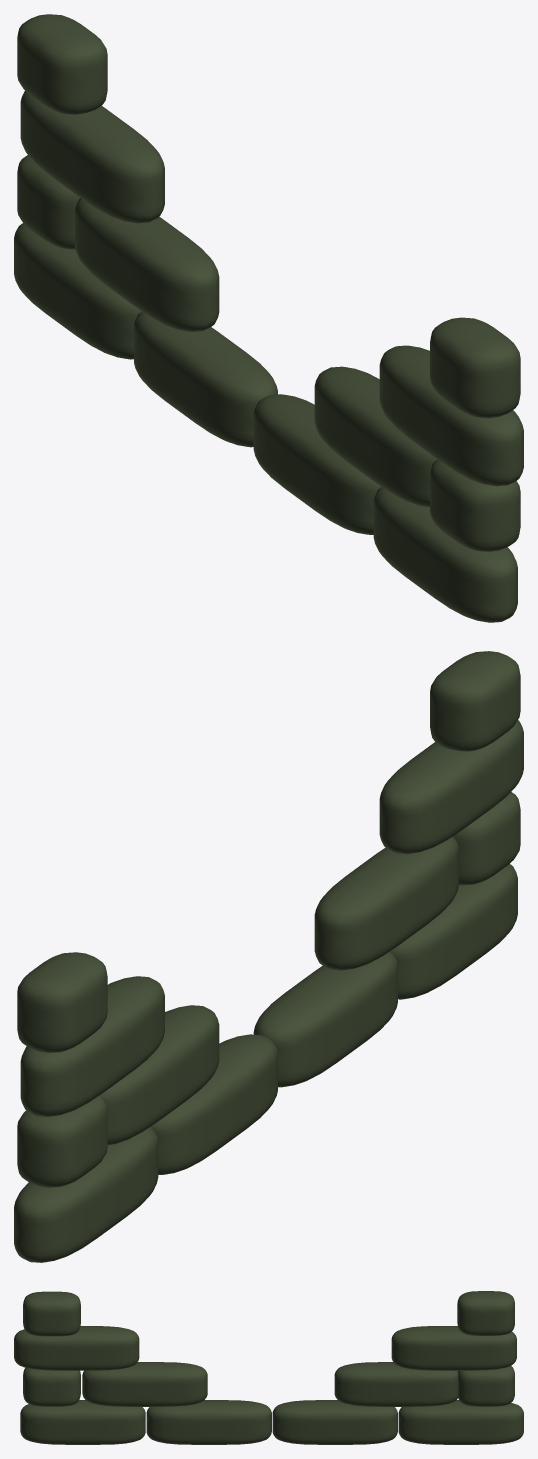
File: Wall 6.fbx
The picture shows the model from 3 angles, top to bottom: view 1: azimuth 30°, elevation 25°; view 2: azimuth 150°, elevation 25°; view 3: azimuth 270°, elevation 25°; orthographic projection. The views are drawn at different scales.
Visible parts, largest first — view 1: Cube; view 2: Cube; view 3: Cube.
Boxes of the visible parts, bbox=[...] form: Cube: bbox=[14, 14, 523, 622]; Cube: bbox=[14, 651, 523, 1262]; Cube: bbox=[14, 1291, 523, 1444].
Size of the model in its own units: 81.86 by 371 by 1169.
